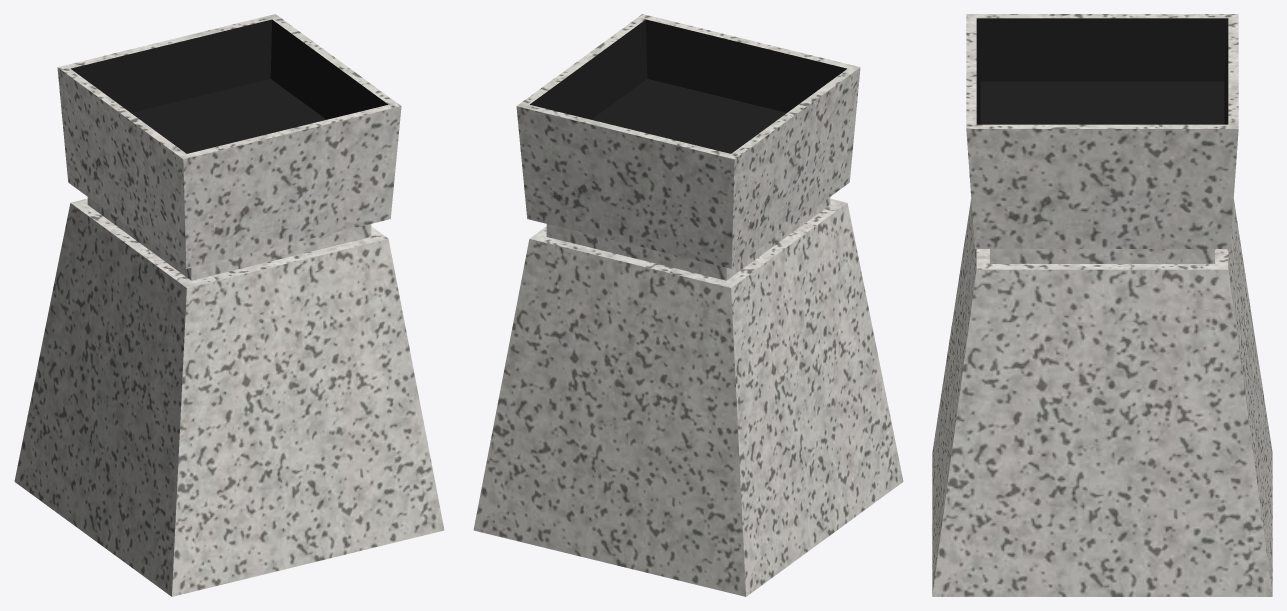
Rendered from white_bishop.glb.
The picture shows the model from 3 angles, left to right: view 1: azimuth 30°, elevation 25°; view 2: azimuth 150°, elevation 25°; view 3: azimuth 270°, elevation 25°; orthographic projection. The views are drawn at different scales.
Parts seen in each view (by area): view 1: White_Bishop; view 2: White_Bishop; view 3: White_Bishop.
Part boxes in pixels (left/top/right/bottom): White_Bishop: left=14, top=14, right=444, bottom=596; White_Bishop: left=473, top=14, right=903, bottom=596; White_Bishop: left=932, top=14, right=1272, bottom=596.
Bounding box in the file's own units: 0.034 × 0.05 × 0.034.
Materials: 2 (1 with a texture image).
